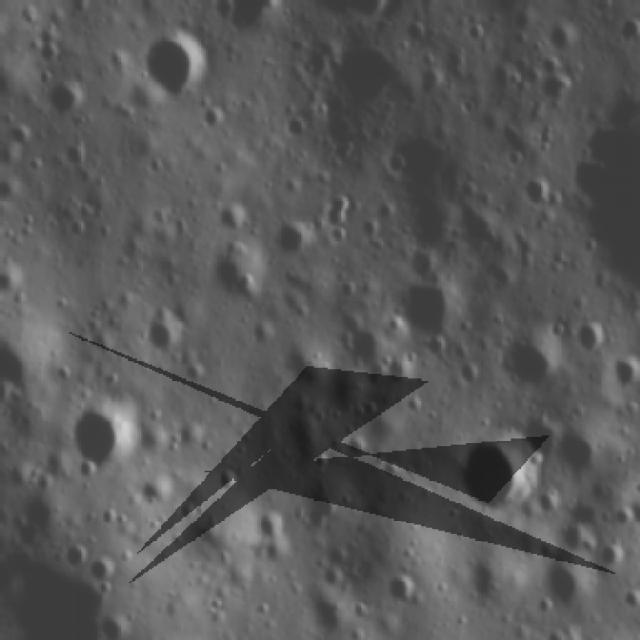crater: (454, 417, 549, 523), (62, 391, 143, 475), (134, 26, 214, 105), (487, 320, 565, 392), (392, 272, 472, 342), (206, 241, 266, 308), (451, 549, 517, 609), (540, 544, 598, 610), (547, 426, 608, 483), (328, 310, 384, 370), (137, 299, 191, 359), (34, 70, 86, 128), (375, 340, 430, 394), (294, 480, 346, 526), (382, 566, 426, 614), (511, 170, 557, 215), (272, 217, 320, 260), (248, 502, 292, 546), (571, 309, 612, 356), (85, 552, 120, 596), (57, 538, 95, 574), (609, 352, 640, 396)
